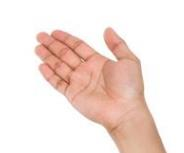down: (32, 25, 148, 125)
